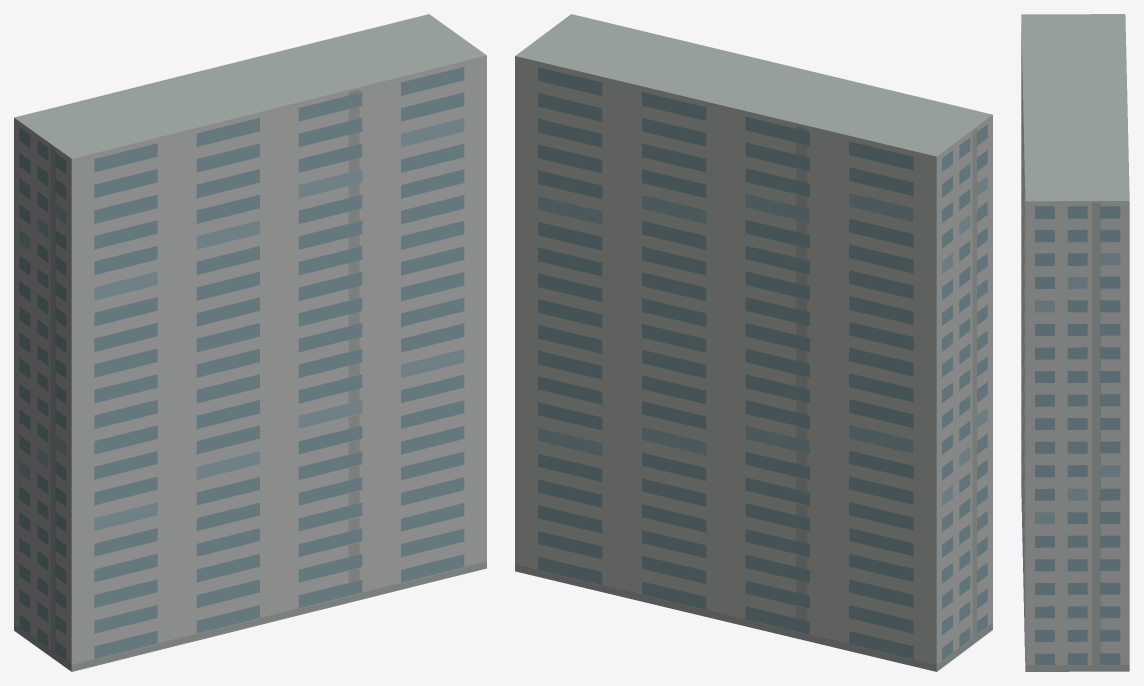
File: residential-5d5ff732-0879-40d5-a828-1b2766d9cbad.glb
3 views of the same model, side by side, from view 1: azimuth 30°, elevation 25°; view 2: azimuth 150°, elevation 25°; view 3: azimuth 270°, elevation 25° (orthographic). The views are drawn at different scales.
Parts seen in each view (by area): view 1: residential-5d5ff732-0879-40d5-a828-1b2766d9cbad.tmp; view 2: residential-5d5ff732-0879-40d5-a828-1b2766d9cbad.tmp; view 3: residential-5d5ff732-0879-40d5-a828-1b2766d9cbad.tmp.
Boxes of the visible parts, left/top/right/bottom form: residential-5d5ff732-0879-40d5-a828-1b2766d9cbad.tmp: left=14, top=14, right=486, bottom=671; residential-5d5ff732-0879-40d5-a828-1b2766d9cbad.tmp: left=515, top=14, right=992, bottom=671; residential-5d5ff732-0879-40d5-a828-1b2766d9cbad.tmp: left=1021, top=14, right=1129, bottom=671.
Size of the model in its own units: 46.09 by 54 by 11.29.
